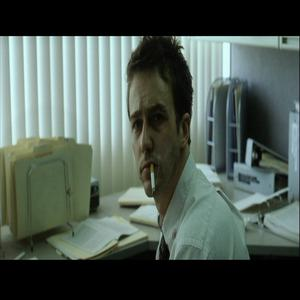cigarette: (144, 163, 161, 194)
